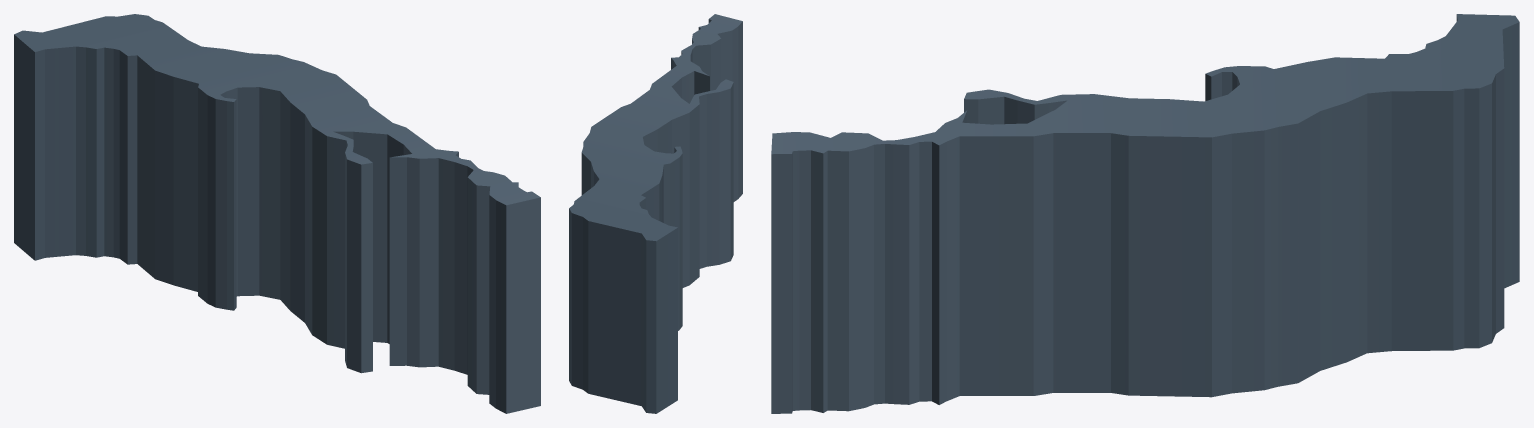
The model's file is seabright1.glb.
The picture shows the model from 3 angles, left to right: view 1: azimuth 30°, elevation 25°; view 2: azimuth 150°, elevation 25°; view 3: azimuth 270°, elevation 25°; orthographic projection. The views are drawn at different scales.
Visible parts, largest first — view 1: Plane.039; view 2: Plane.039; view 3: Plane.039.
Part boxes in pixels (bbox=[...]): Plane.039: bbox=[14, 14, 540, 413]; Plane.039: bbox=[569, 14, 742, 413]; Plane.039: bbox=[771, 14, 1519, 413].
Bounding box in the file's own units: 0.4463 × 0.3856 × 1.01.
Materials: 1 (1 with a texture image).
